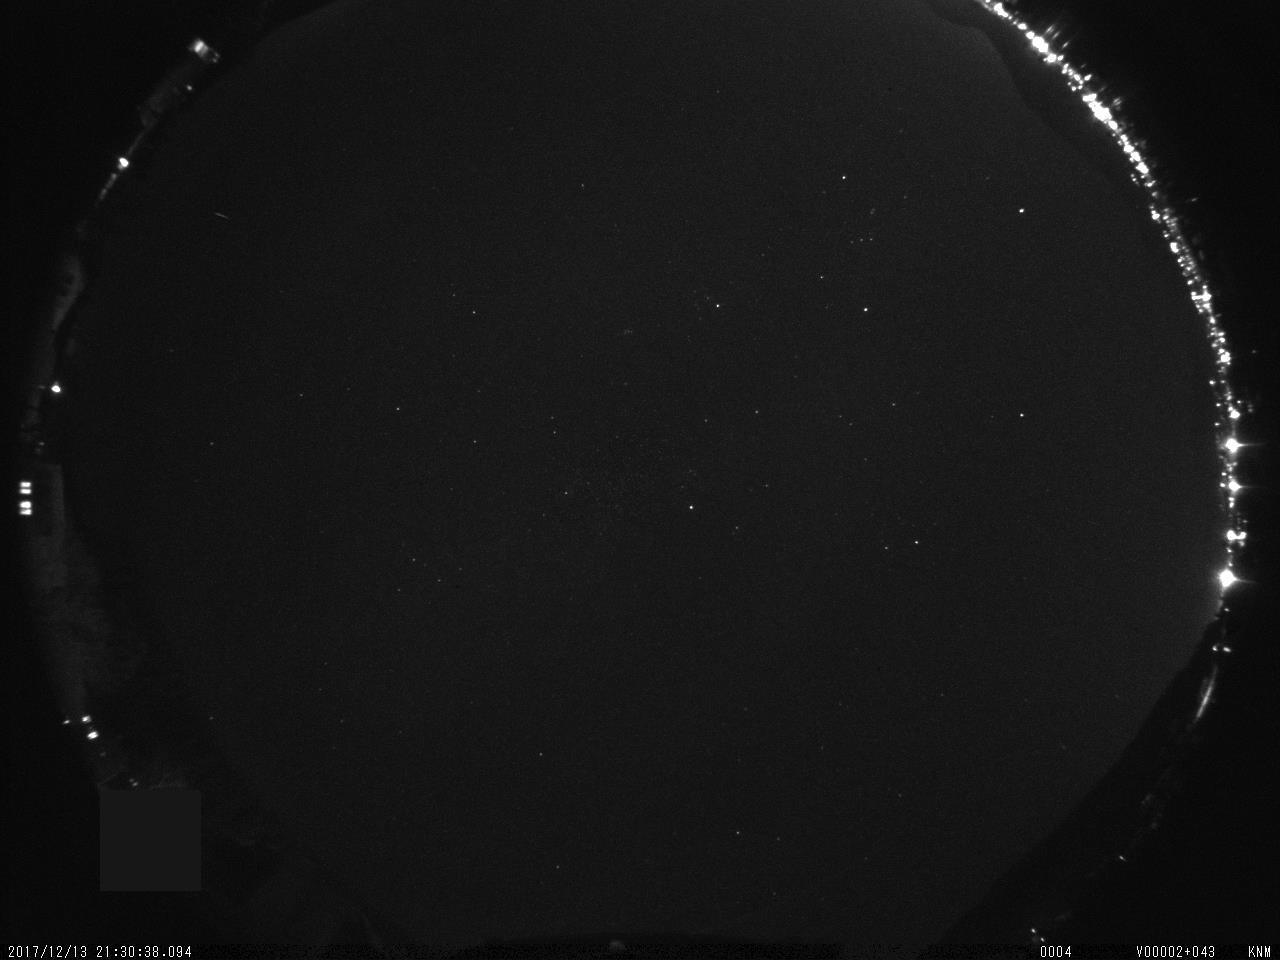Meteor: (210, 208, 236, 227)
